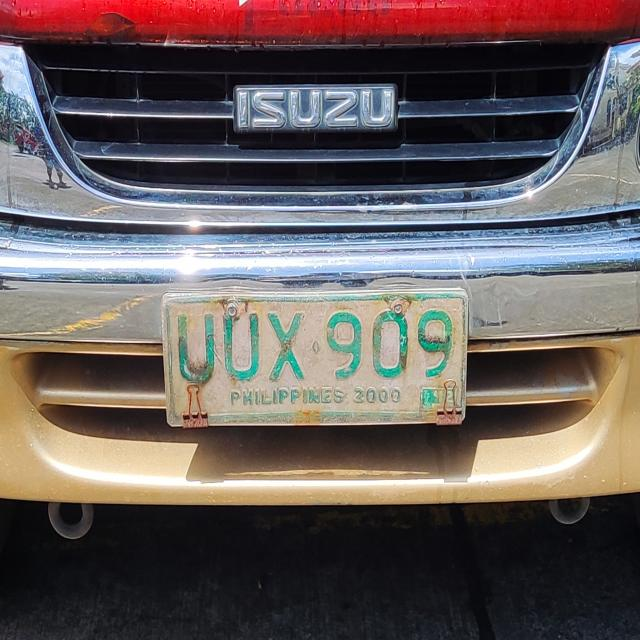plate: (159, 289, 472, 430)
